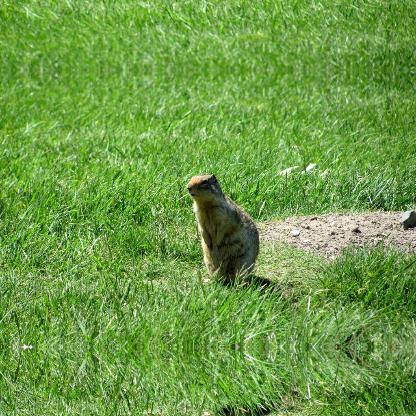Squirrel: (187, 171, 288, 299)
